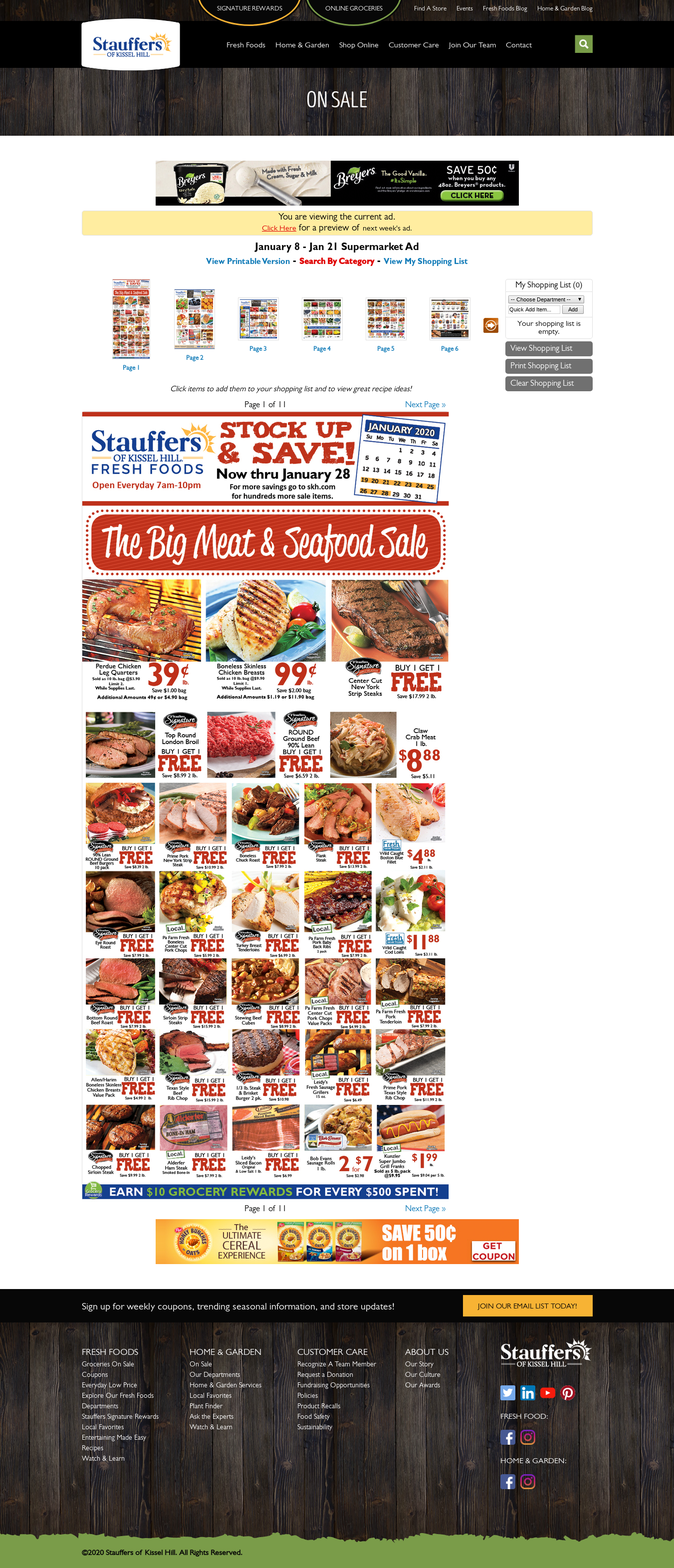fake_button: (468, 1238, 517, 1266)
